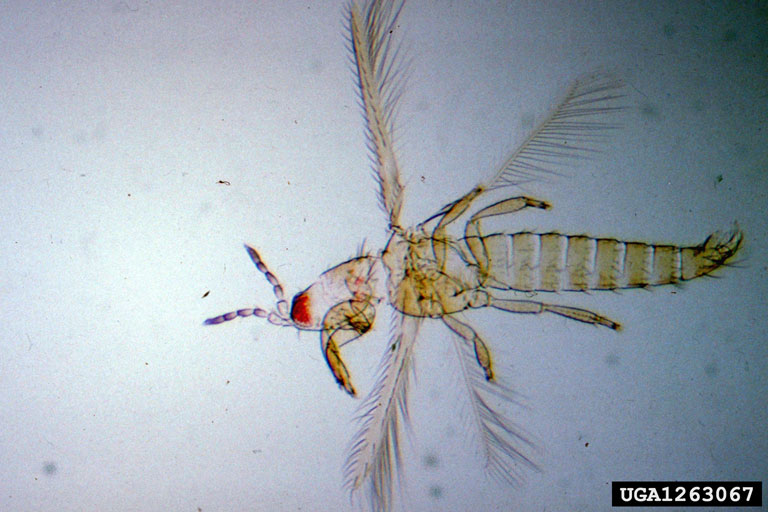Thripidae: (203, 1, 749, 511)
